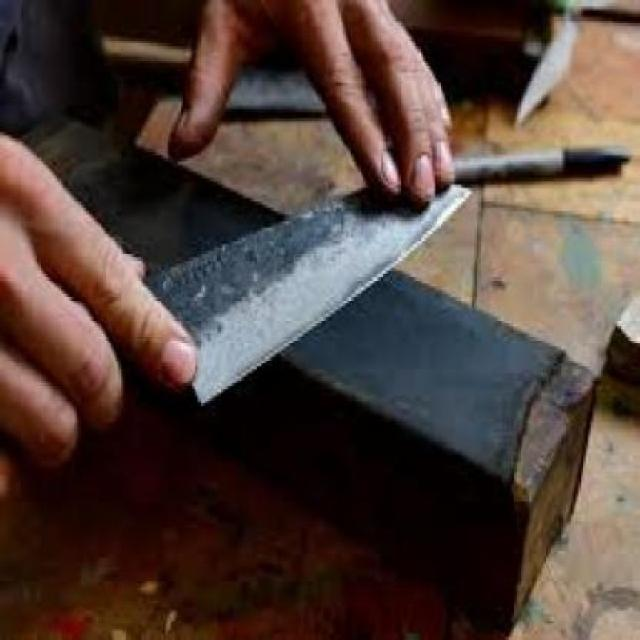knife: (144, 175, 471, 403)
